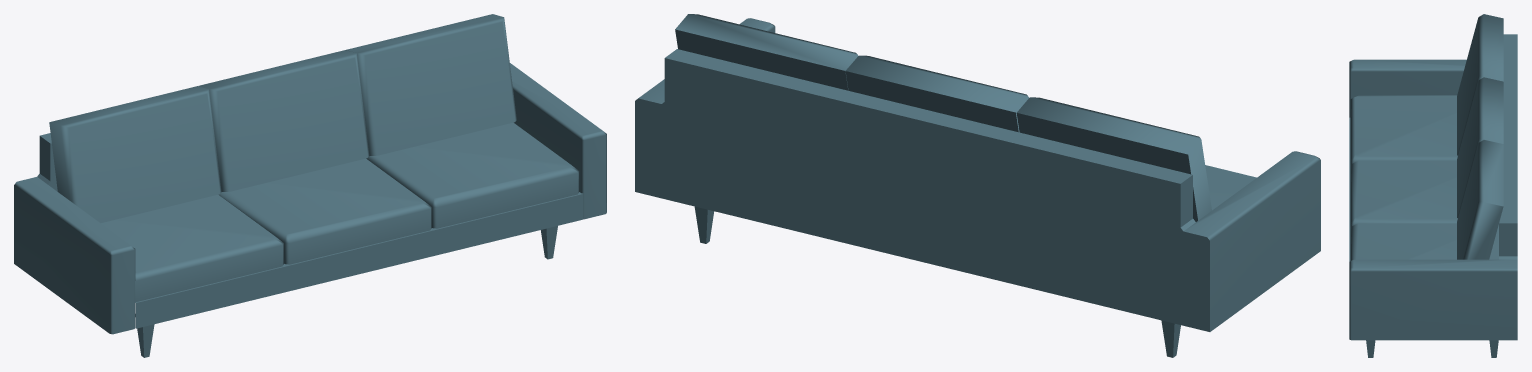
File: sofa.glb
The picture shows the model from 3 angles, left to right: view 1: azimuth 30°, elevation 25°; view 2: azimuth 150°, elevation 25°; view 3: azimuth 270°, elevation 25°; orthographic projection. The views are drawn at different scales.
Parts seen in each view (by area): view 1: couch1; view 2: couch1; view 3: couch1.
Part boxes in pixels (x1=…): couch1: x1=14, y1=14, x2=606, y2=357; couch1: x1=635, y1=14, x2=1320, y2=357; couch1: x1=1349, y1=14, x2=1517, y2=357.
Bounding box in the file's own units: 3.31 × 1.2 × 1.12.
